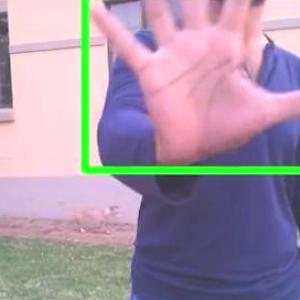follow_hand: (76, 0, 299, 169)
